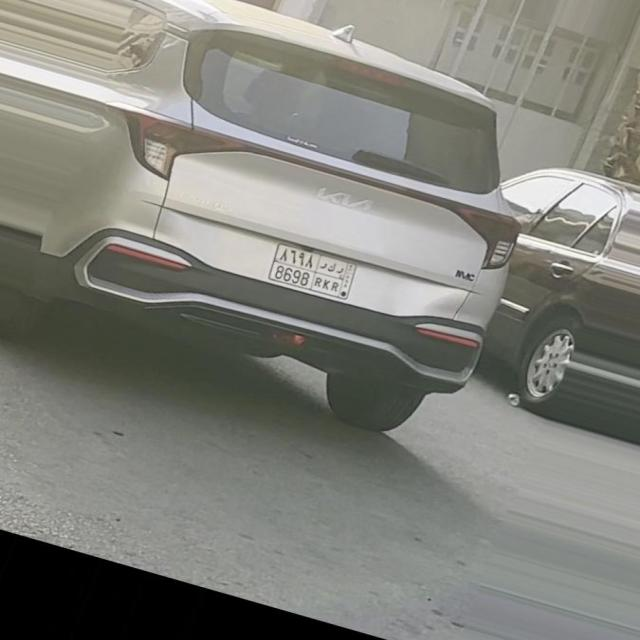Car-plate: (259, 237, 376, 311)
